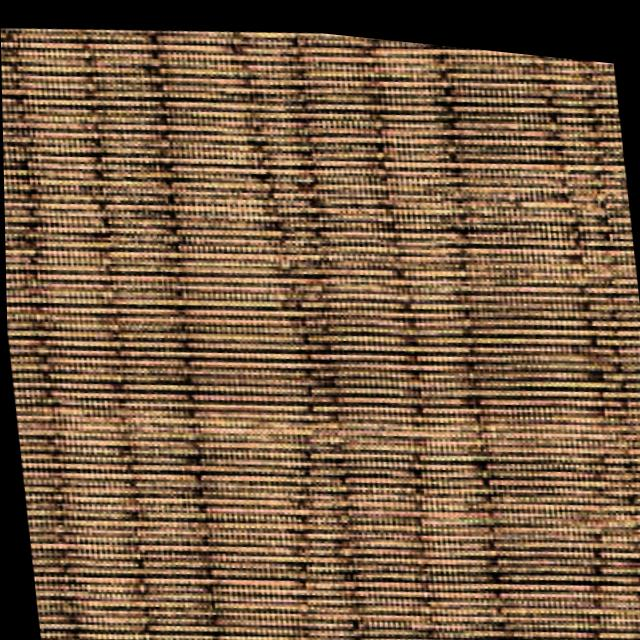Stitch: (218, 77, 388, 639)
